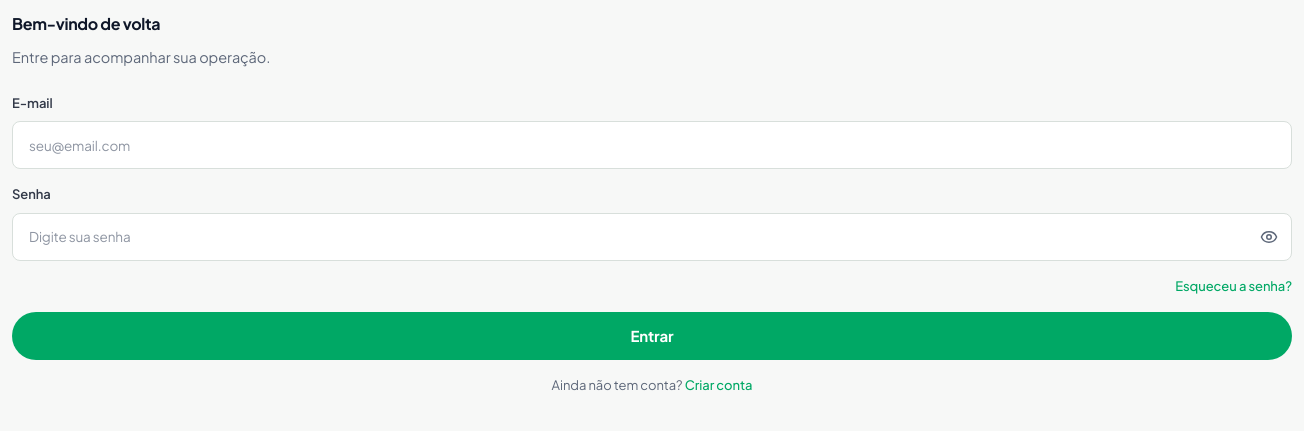
Test: tela de login › e-mail sem formato válido é barrado antes de enviar
The image size is (1304, 431).
Type "lucker@" into the field with id "login-email" at x=652, y=145, box [12,121,1292,169]
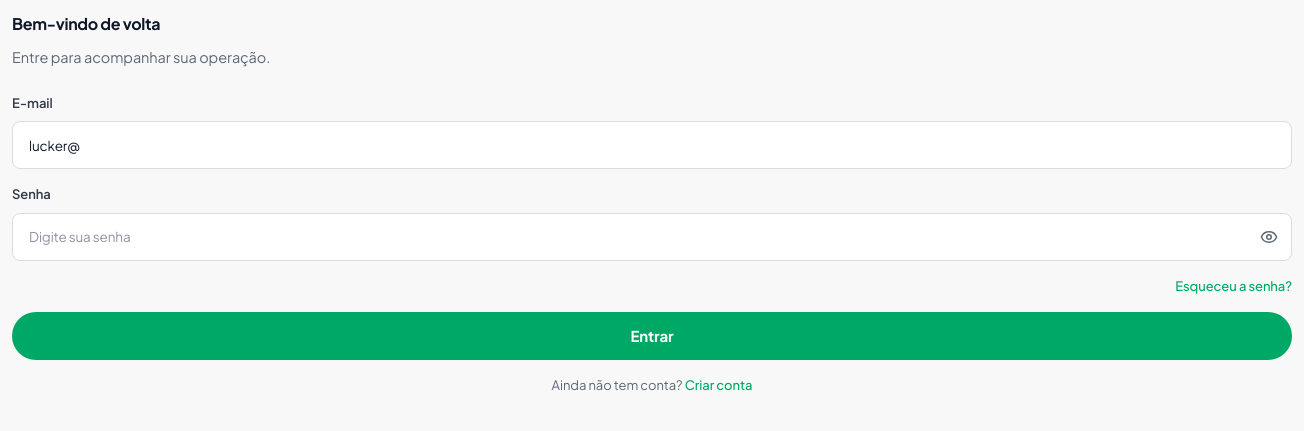
Type "qualquer" into the password field with id "login-password" at x=652, y=237, box [12,213,1292,261]
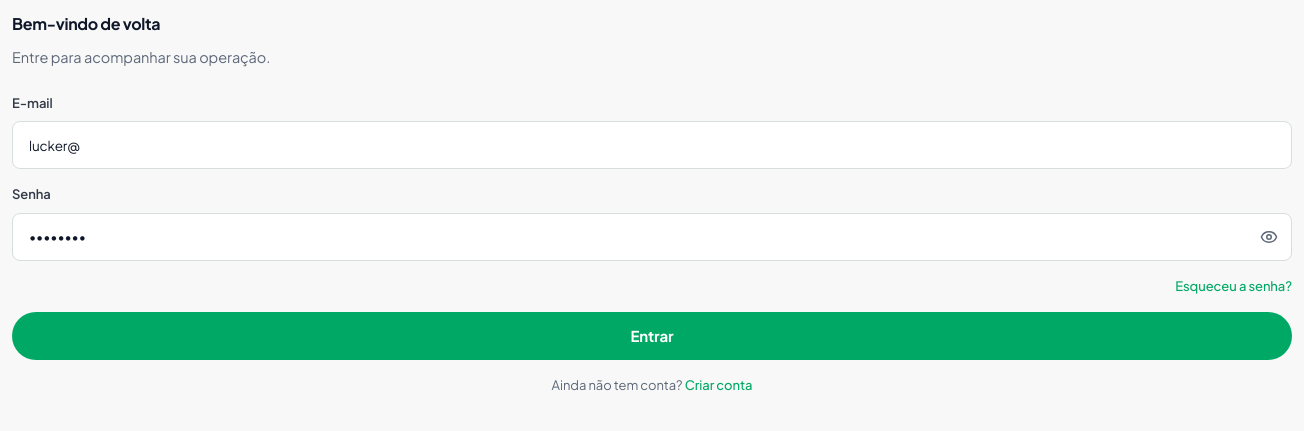
Click the button "Entrar" at x=652, y=336, box [12,312,1292,360]
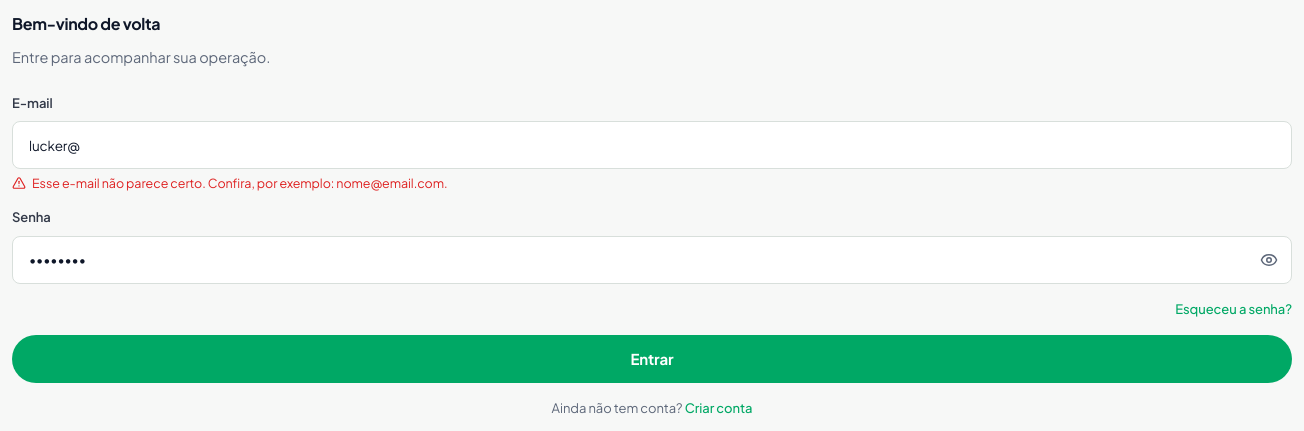
Expected: the text "não parece certo" is shown, [32,175,448,191]
